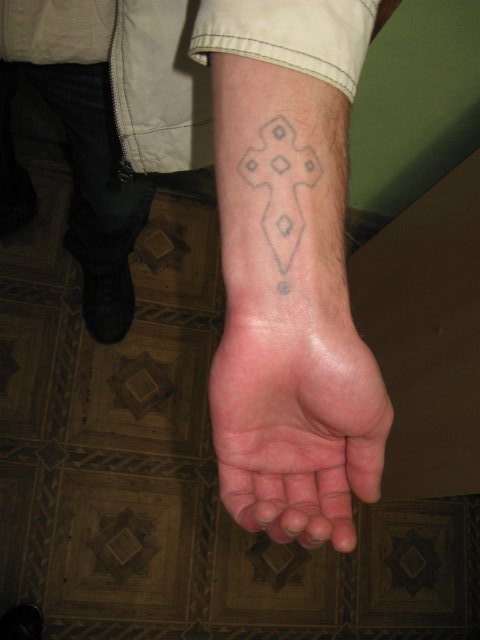tatu9_krest: (228, 112, 329, 273)
